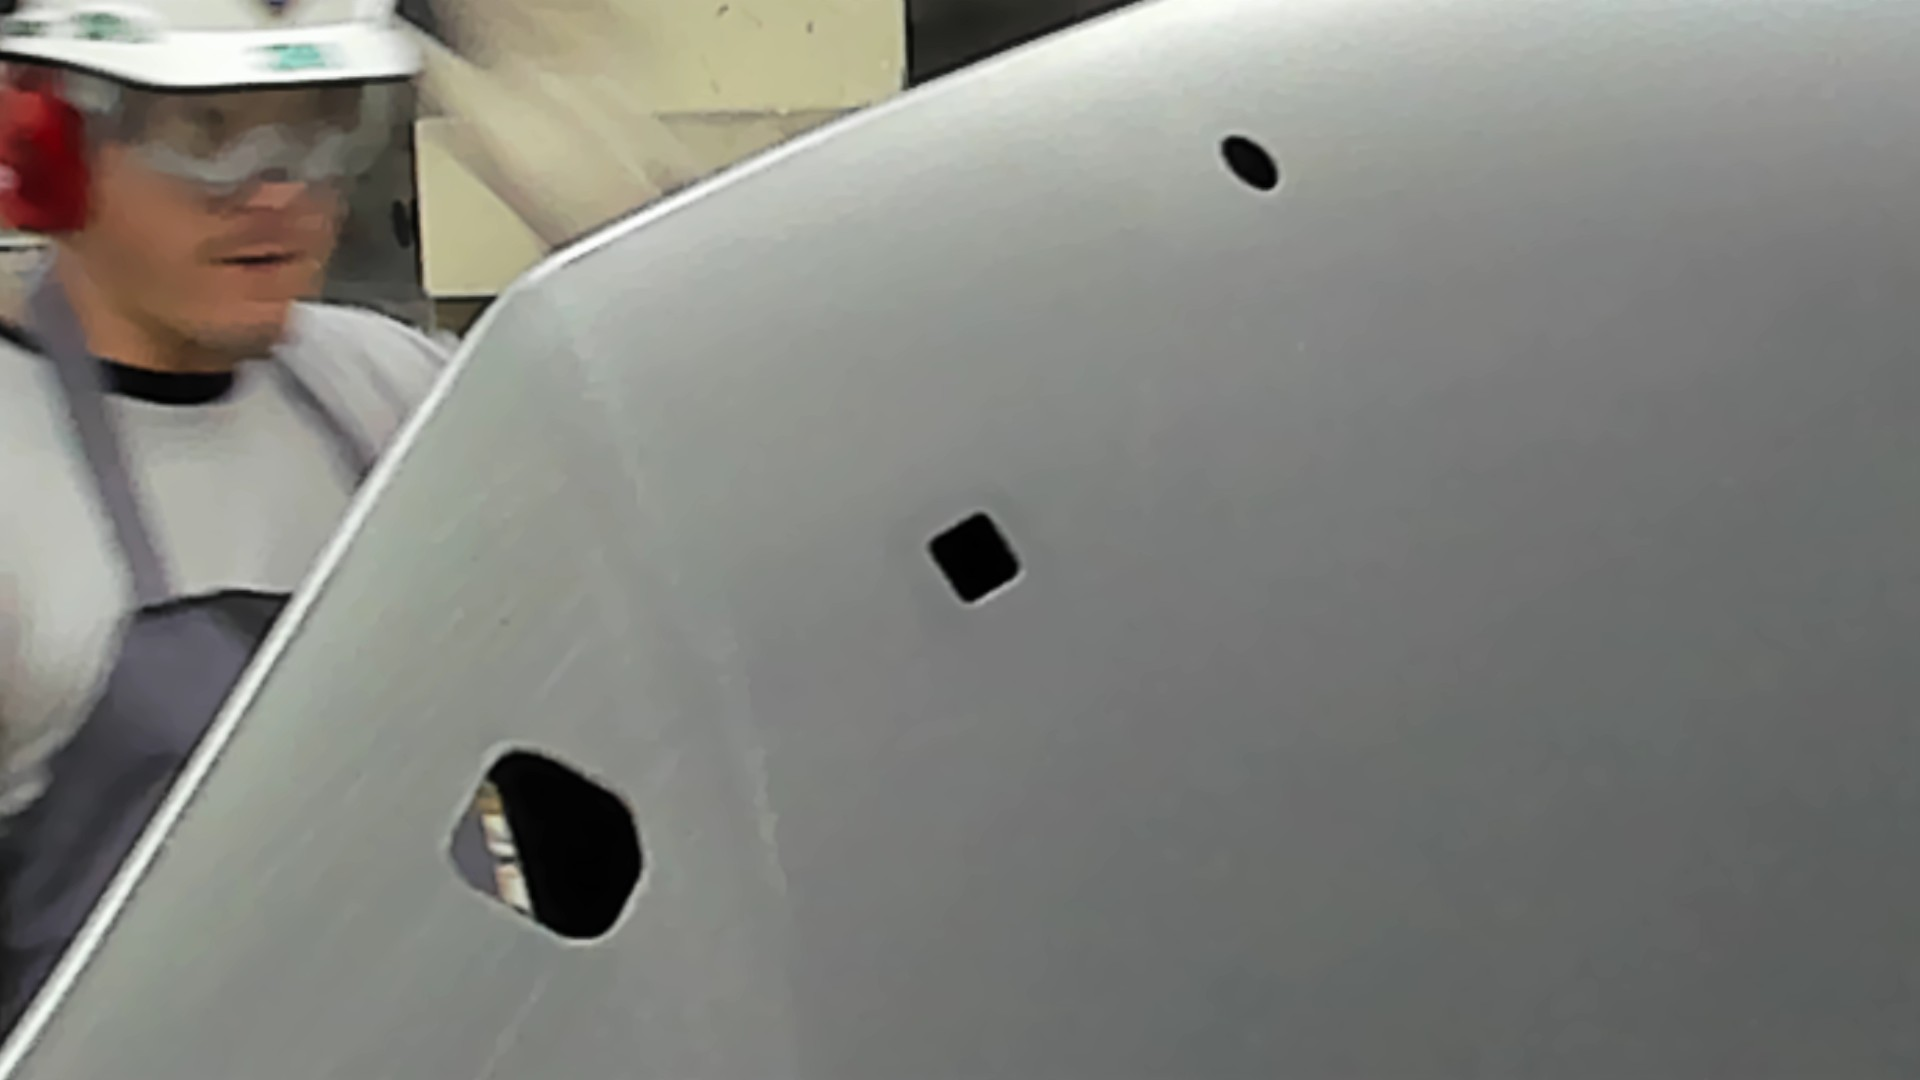chico: (1215, 127, 1283, 196)
grande: (442, 738, 651, 953)
mediano: (915, 505, 1027, 611)
